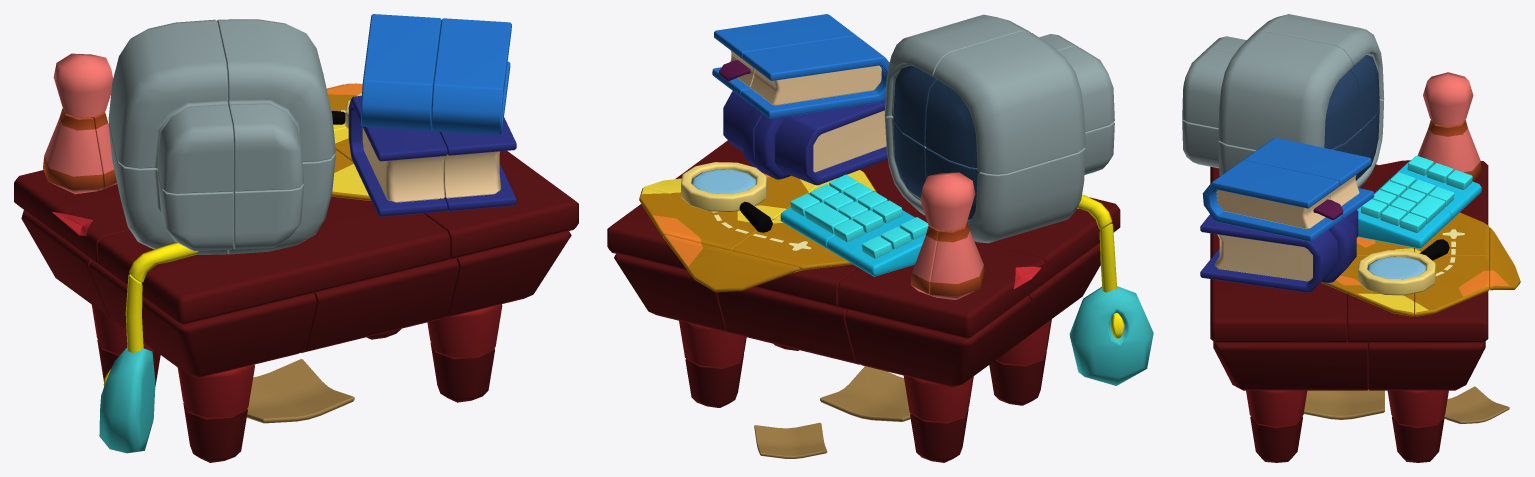
File: lvl_8.fbx
The picture shows the model from 3 angles, left to right: view 1: azimuth 30°, elevation 25°; view 2: azimuth 150°, elevation 25°; view 3: azimuth 270°, elevation 25°; orthographic projection. The views are drawn at different scales.
Visible parts, largest first — view 1: Knowledge_Table_32, Knowledge_Table_2, Knowledge_Table_37, Knowledge_Table_1, Knowledge_Table_11, Knowledge_Table_36, Knowledge_Table_10, Knowledge_Table_13, Knowledge_Table_31, Knowledge_Table_6, Knowledge_Table_9, Knowledge_Table_35 (+19 smaller); view 2: Knowledge_Table_2, Knowledge_Table_34, Knowledge_Table_10, Knowledge_Table_4, Knowledge_Table_13, Knowledge_Table_40, Knowledge_Table_9, Knowledge_Table_39, Knowledge_Table_1, Knowledge_Table_33, Knowledge_Table_32, Knowledge_Table_38 (+31 smaller); view 3: Knowledge_Table_1, Knowledge_Table_11, Knowledge_Table_31, Knowledge_Table_12, Knowledge_Table_35, Knowledge_Table_33, Knowledge_Table_38, Knowledge_Table_2, Knowledge_Table_10, Knowledge_Table_27, Knowledge_Table_5, Knowledge_Table_15 (+26 smaller).
Boxes of the visible parts, <box> form: Knowledge_Table_32: <box>97,196,450,325</box>; Knowledge_Table_2: <box>108,19,228,168</box>; Knowledge_Table_37: <box>88,260,317,378</box>; Knowledge_Table_1: <box>217,19,335,162</box>; Knowledge_Table_11: <box>431,18,511,135</box>; Knowledge_Table_36: <box>301,258,459,352</box>; Knowledge_Table_10: <box>360,14,441,130</box>; Knowledge_Table_13: <box>348,95,447,216</box>; Knowledge_Table_31: <box>424,151,578,259</box>; Knowledge_Table_6: <box>157,105,233,193</box>; Knowledge_Table_9: <box>99,274,155,453</box>; Knowledge_Table_35: <box>443,231,571,318</box>; Knowledge_Table_2: <box>925,31,1085,174</box>; Knowledge_Table_34: <box>838,241,1046,339</box>; Knowledge_Table_10: <box>741,35,889,118</box>; Knowledge_Table_4: <box>925,147,1112,243</box>; Knowledge_Table_13: <box>754,98,887,185</box>; Knowledge_Table_40: <box>845,295,1031,387</box>; Knowledge_Table_9: <box>1069,223,1153,385</box>; Knowledge_Table_39: <box>717,287,859,364</box>; Knowledge_Table_1: <box>884,14,1030,146</box>; Knowledge_Table_33: <box>607,170,858,307</box>; Knowledge_Table_32: <box>860,159,1120,280</box>; Knowledge_Table_38: <box>614,254,730,333</box>; Knowledge_Table_1: <box>1218,31,1361,150</box>; Knowledge_Table_11: <box>1202,160,1343,241</box>; Knowledge_Table_31: <box>1210,279,1346,343</box>; Knowledge_Table_12: <box>1200,214,1351,292</box>; Knowledge_Table_35: <box>1213,298,1368,390</box>; Knowledge_Table_33: <box>1347,218,1488,343</box>; Knowledge_Table_38: <box>1368,341,1485,390</box>; Knowledge_Table_2: <box>1254,14,1384,128</box>; Knowledge_Table_10: <box>1243,137,1374,218</box>; Knowledge_Table_27: <box>1414,256,1489,316</box>; Knowledge_Table_5: <box>1182,49,1234,128</box>; Knowledge_Table_15: <box>1418,120,1481,181</box>.
Size of the model in its own units: 12.2 by 10.32 by 9.5.
